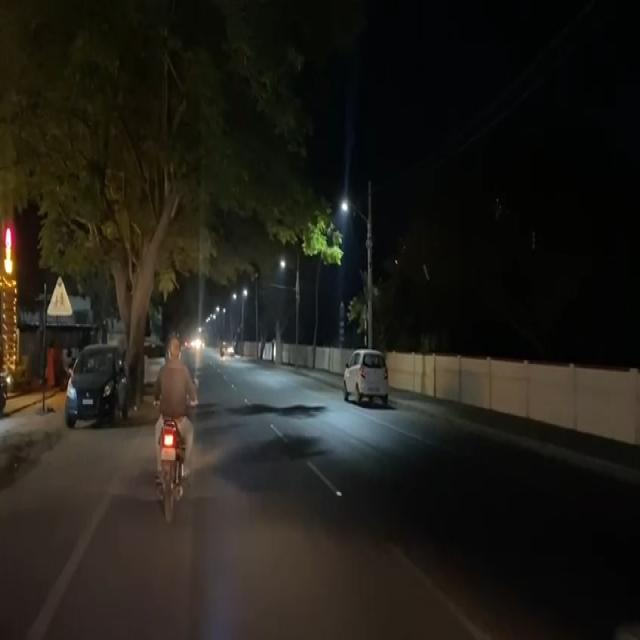bien_cam: (47, 273, 73, 321)
